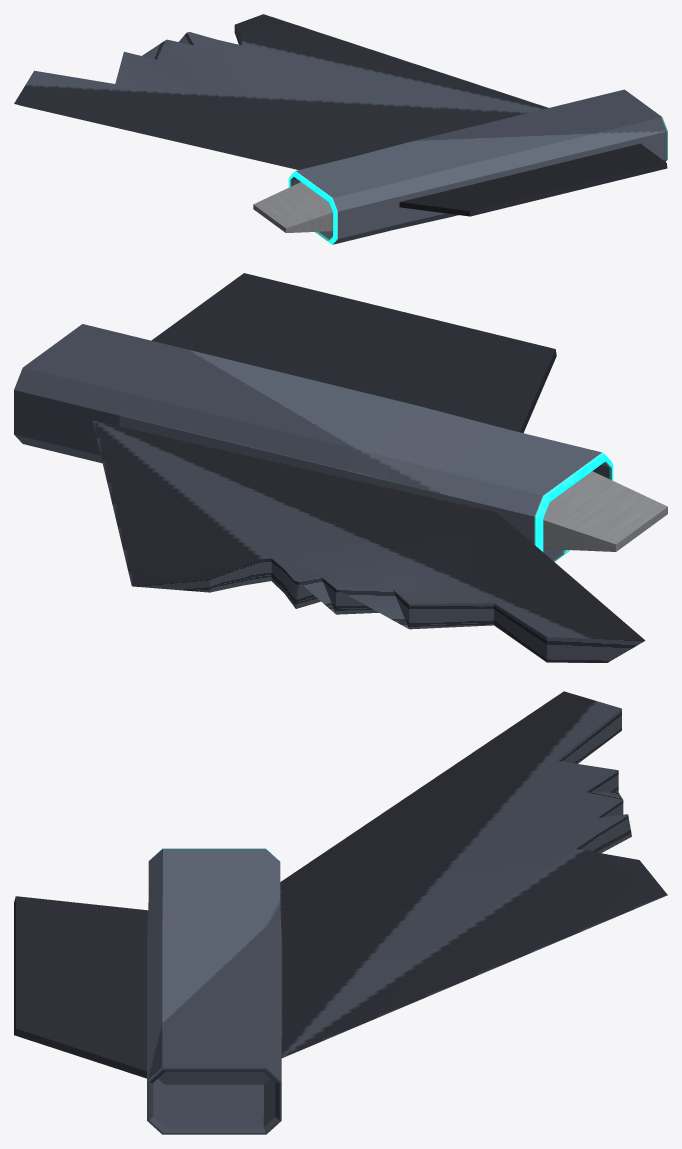
The model's file is r_spaceship_crashed_wing.fbx.
3 views of the same model, one above another, from view 1: azimuth 30°, elevation 25°; view 2: azimuth 150°, elevation 25°; view 3: azimuth 270°, elevation 25° (orthographic). The views are drawn at different scales.
Parts seen in each view (by area): view 1: r_spaceship_crached_wing; view 2: r_spaceship_crached_wing; view 3: r_spaceship_crached_wing.
Part boxes in pixels (bbox=[...]): r_spaceship_crached_wing: bbox=[14, 14, 667, 244]; r_spaceship_crached_wing: bbox=[14, 273, 667, 662]; r_spaceship_crached_wing: bbox=[14, 691, 667, 1134].
Bounding box in the file's own units: 1187 × 192 × 973.
1 material, 1 textured.
